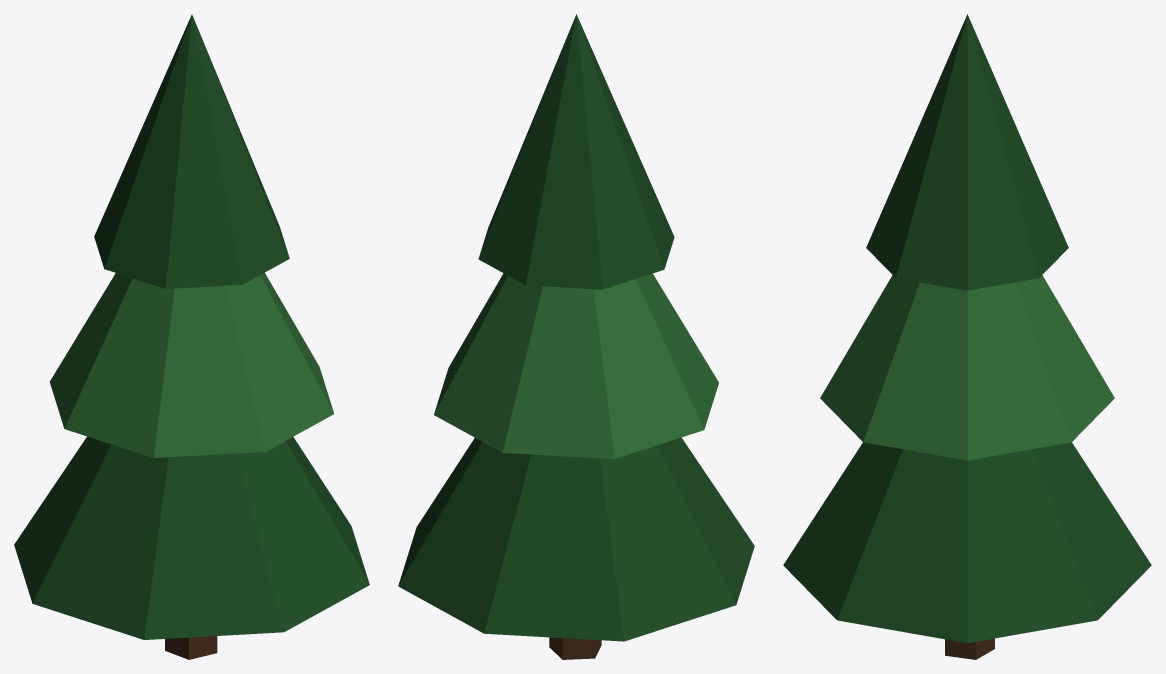
File: pine.glb
3 views of the same model, side by side, from view 1: azimuth 30°, elevation 25°; view 2: azimuth 150°, elevation 25°; view 3: azimuth 270°, elevation 25° (orthographic).
Parts seen in each view (by area): view 1: prop_pine; view 2: prop_pine; view 3: prop_pine.
Part boxes in pixels (x1,y1,x2,y2): prop_pine: (14, 14, 369, 659); prop_pine: (398, 14, 754, 659); prop_pine: (783, 14, 1151, 659).
Bounding box in the file's own units: 0.4 × 0.76 × 0.4.
